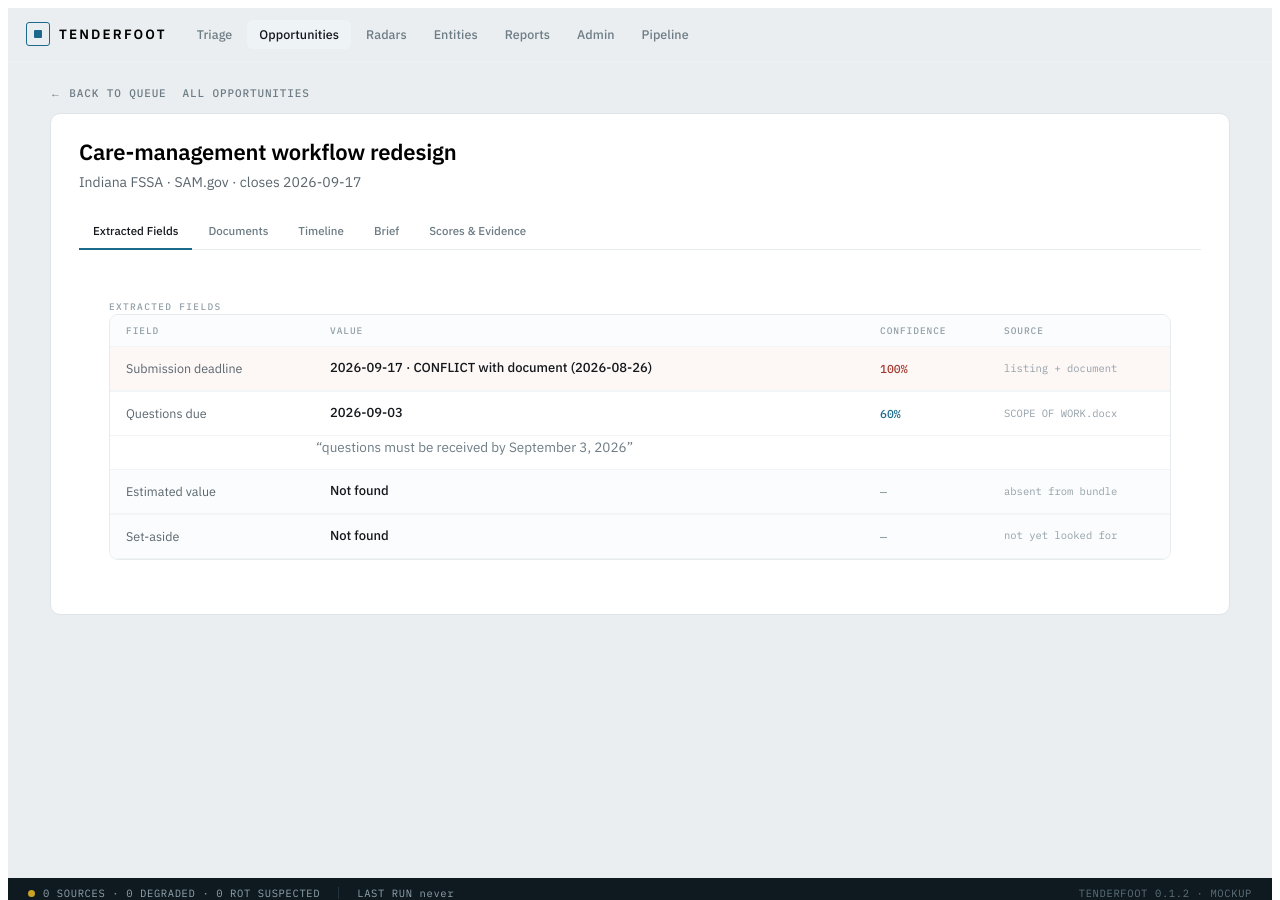
Test case: an unsupported outcome does not override a real, already-known document count
Click the tab "Documents" at {"x": 238, "y": 232}, box x1=194 y1=214 x2=282 y2=250
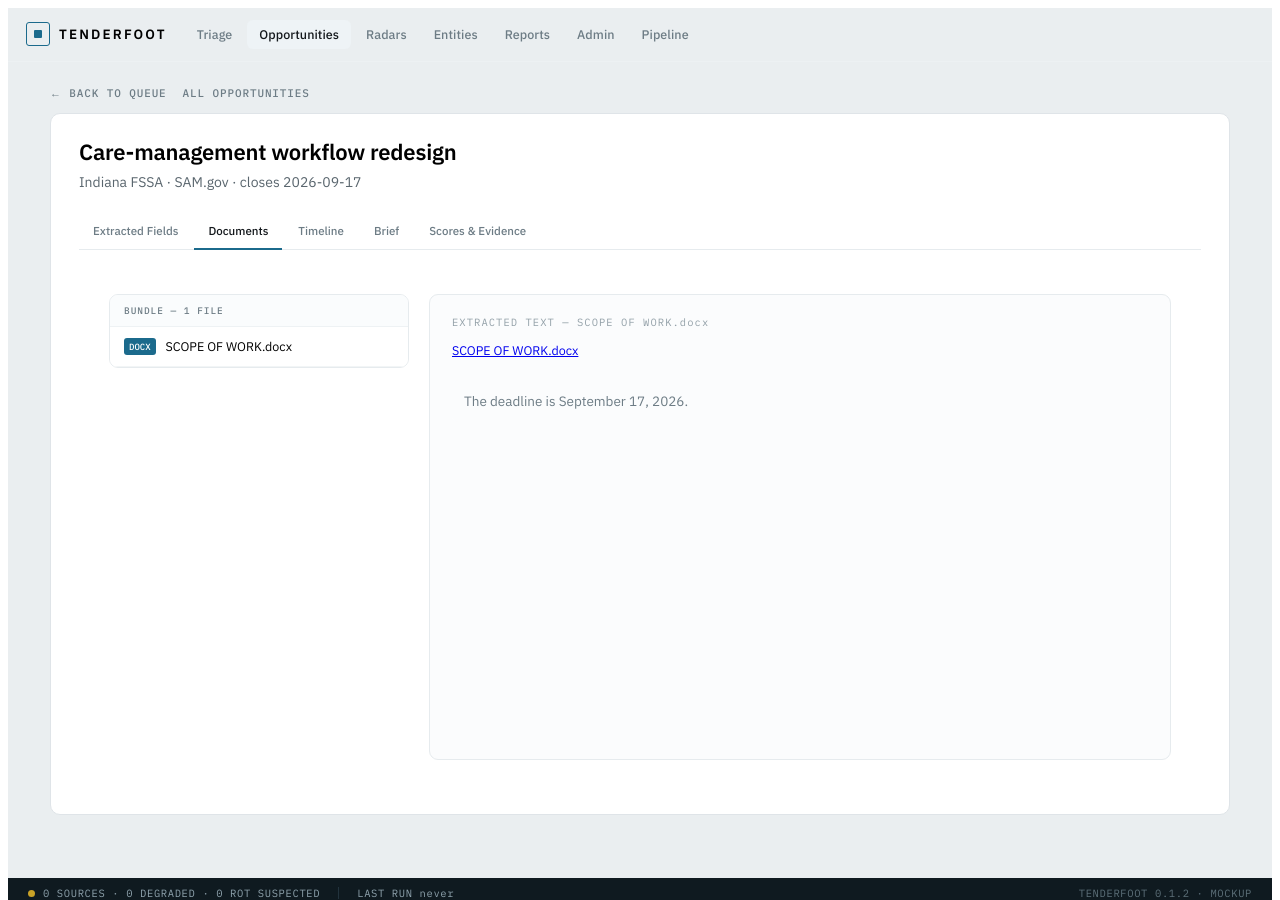
Now the text "BUNDLE — 1 FILE" is shown, box x1=110 y1=295 x2=408 y2=327
